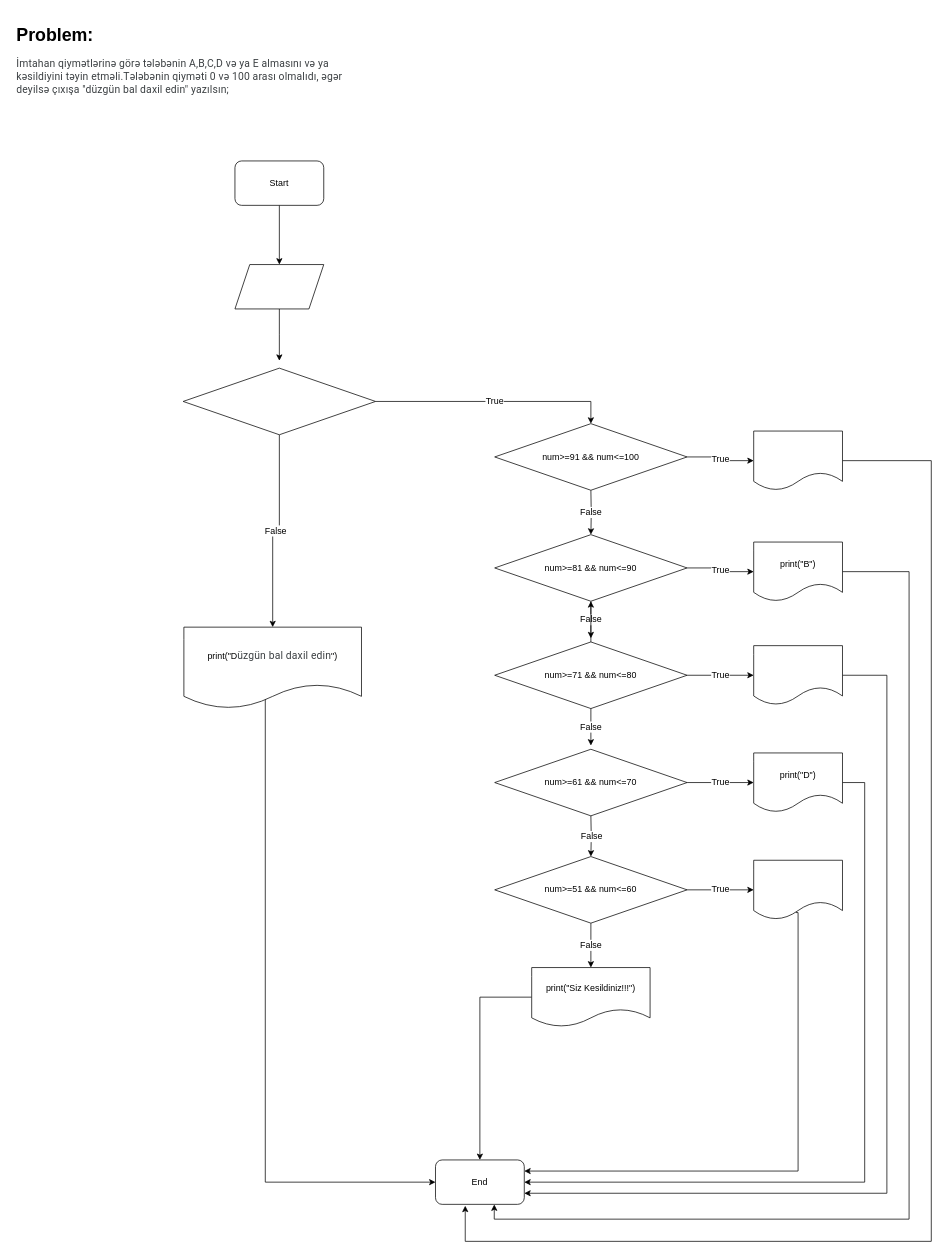
The diagram is 950 pixels wide and 1260 high, and some of its shapes have lost their labels. Here are the shapes that lost their labels. From the top down, the centre of each, then its label:
(279,286): Num
(279,401): num>=0 && num<=100
(797,460): print("A")
(797,675): print("C")
(797,889): print("E")
